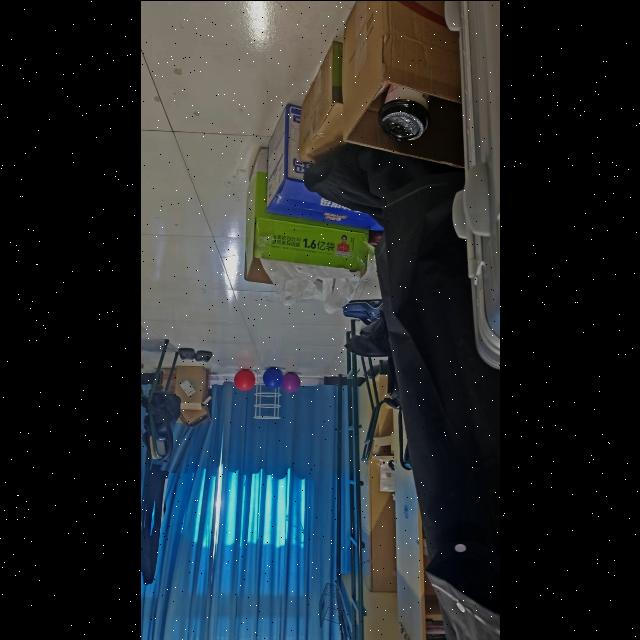B: (263, 367, 283, 388)
P: (282, 371, 300, 392)
R: (233, 368, 255, 390)
S: (254, 383, 281, 418)
